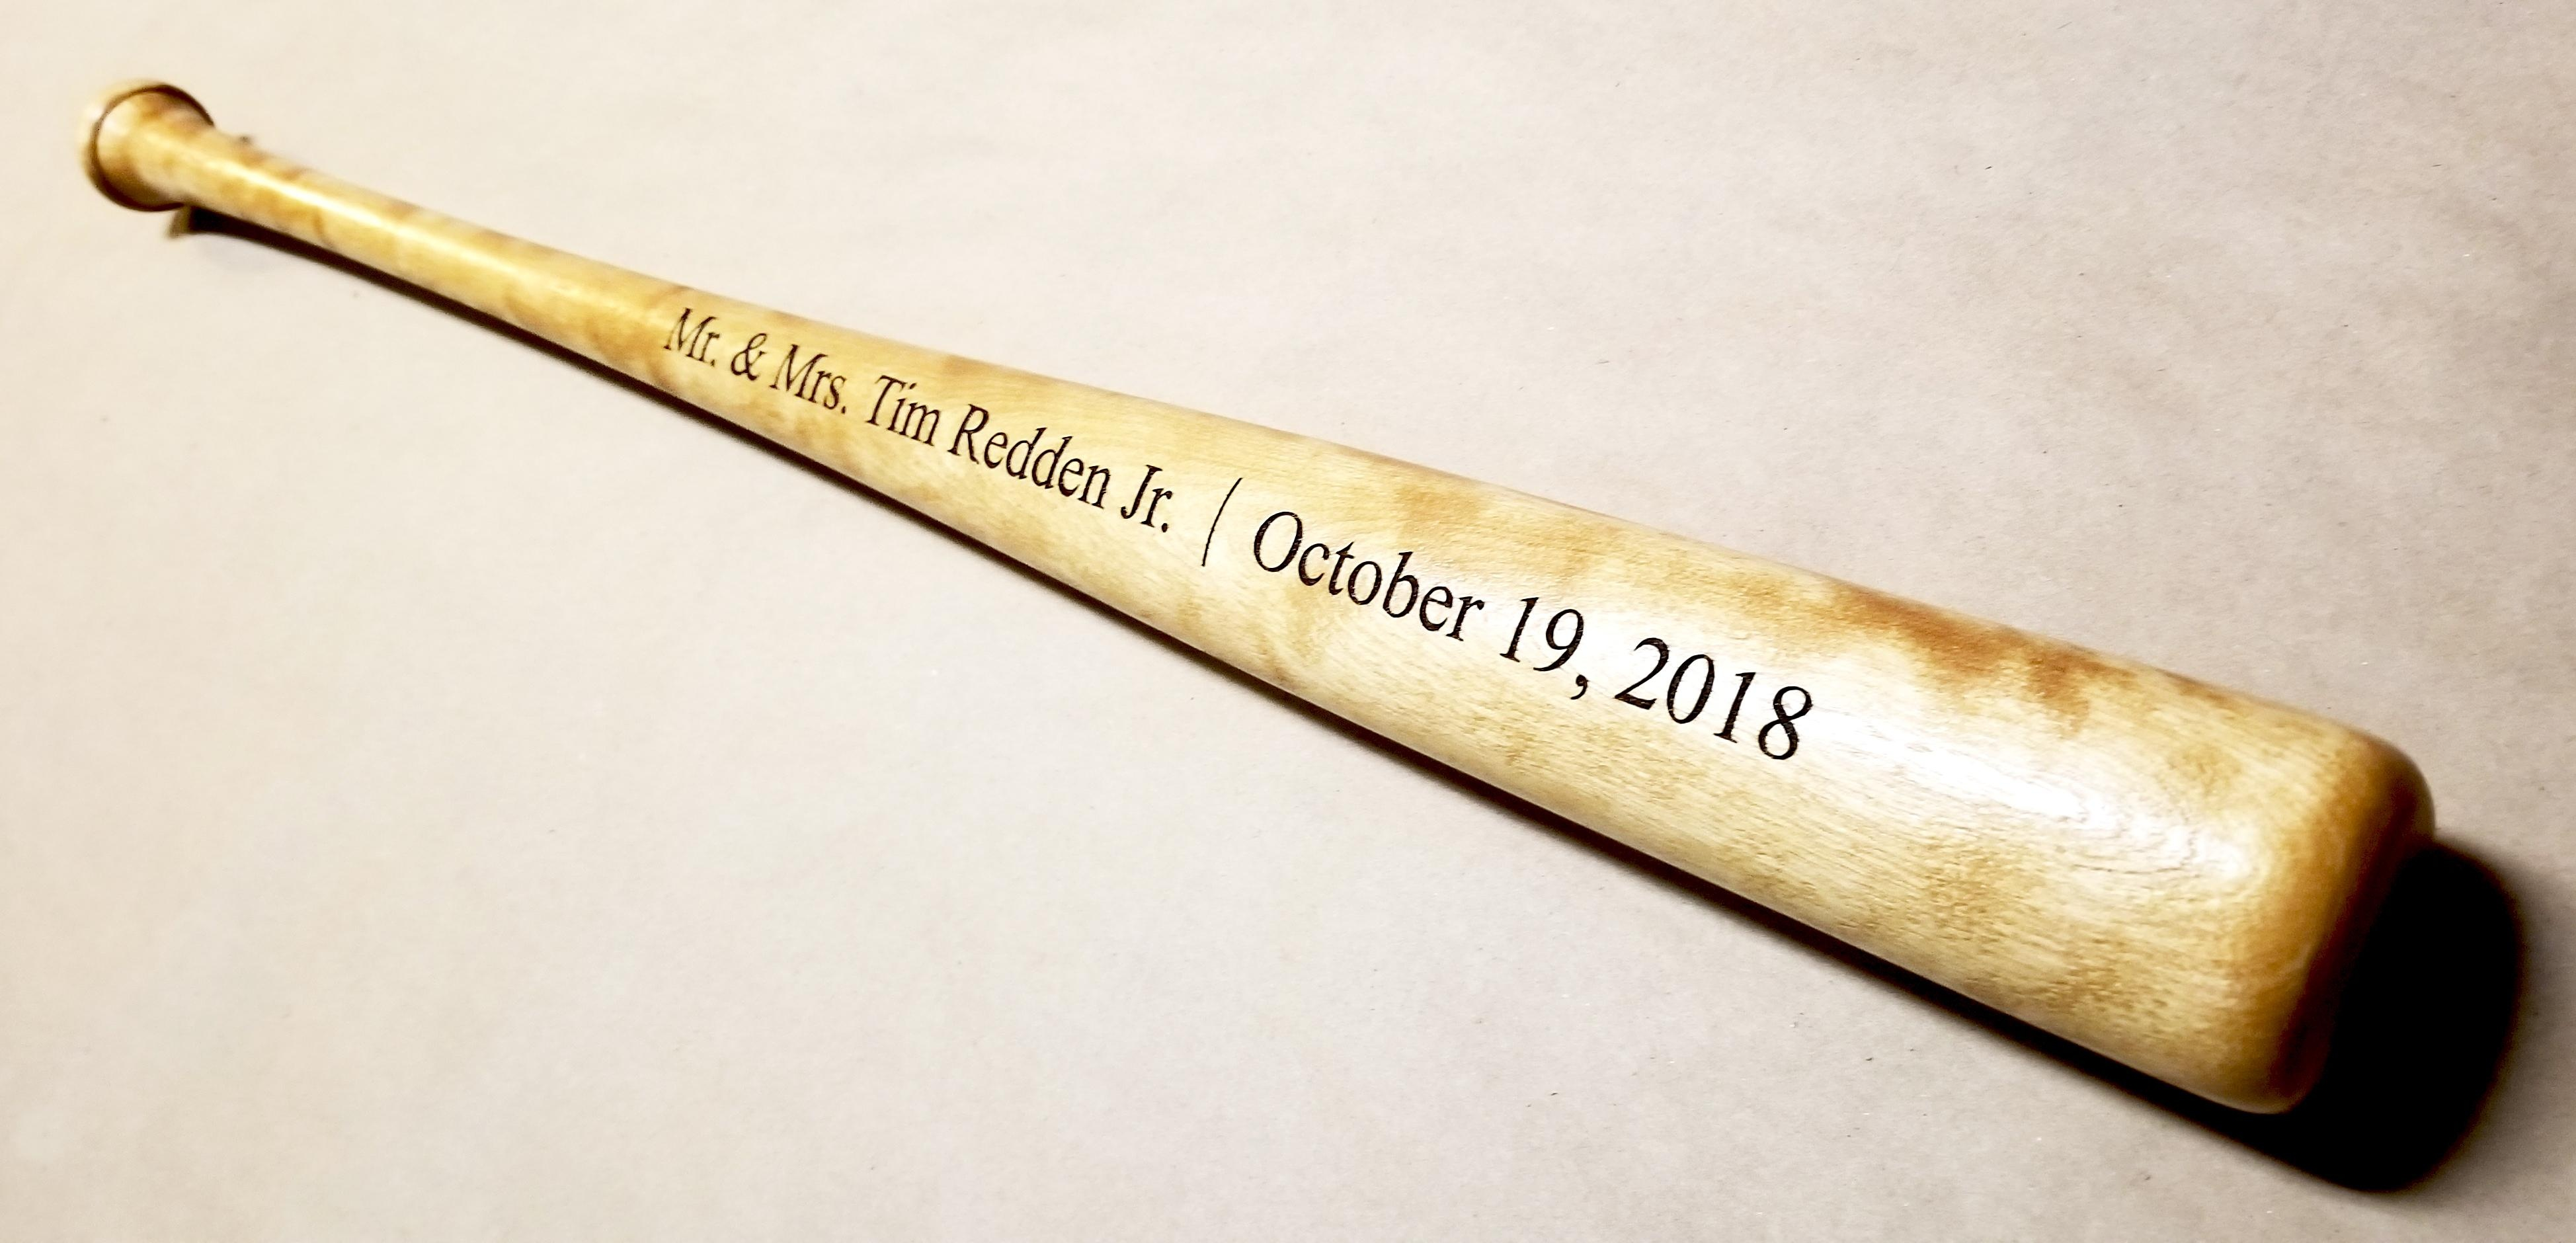bita: (85, 87, 2410, 1118)
